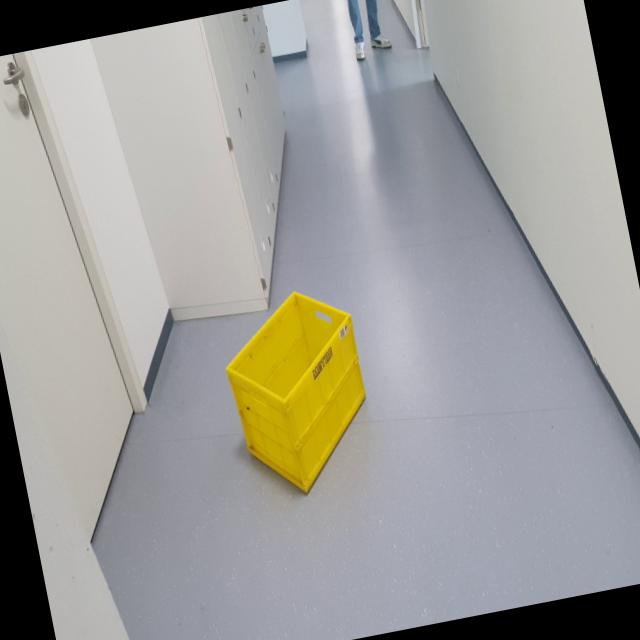box: (198, 256, 386, 503)
